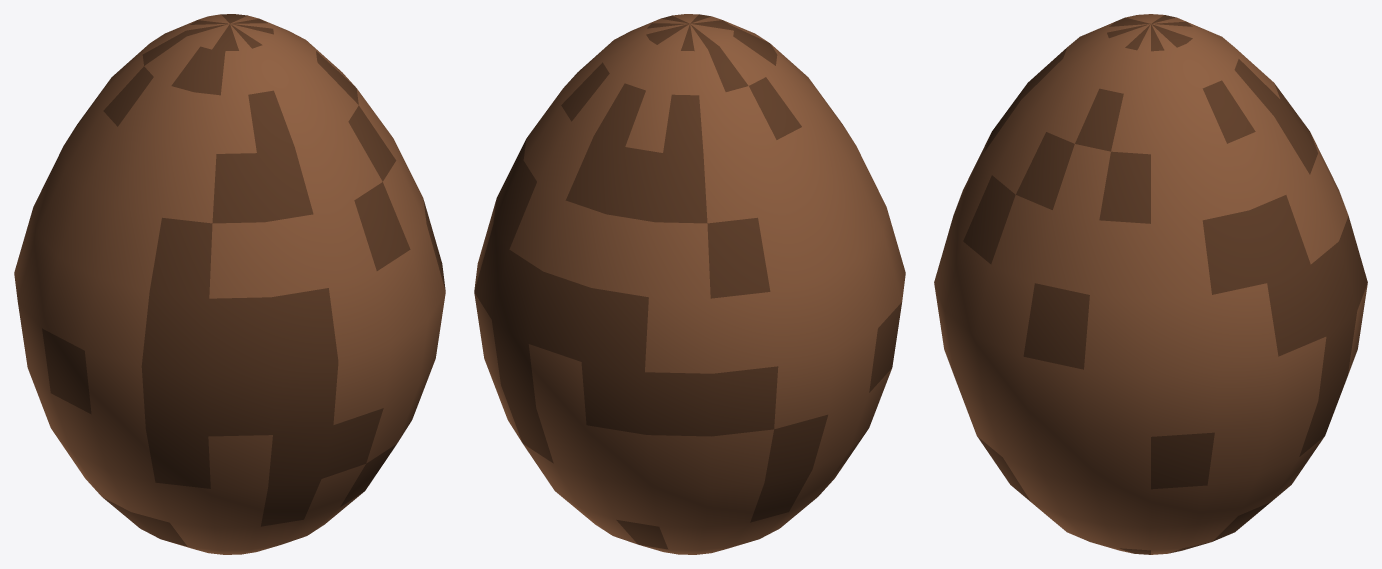
The model's file is Dirt.glb.
3 renders of one model, left to right at view 1: azimuth 30°, elevation 25°; view 2: azimuth 150°, elevation 25°; view 3: azimuth 270°, elevation 25°, orthographic.
Visible parts, largest first — view 1: Dirt; view 2: Dirt; view 3: Dirt.
Part boxes in pixels (<box>): Dirt: <box>14,14,445,554</box>; Dirt: <box>474,14,905,554</box>; Dirt: <box>934,14,1367,554</box>.
Size of the model in its own units: 3.04 by 4 by 3.04.
Materials: 1 (1 with a texture image).
